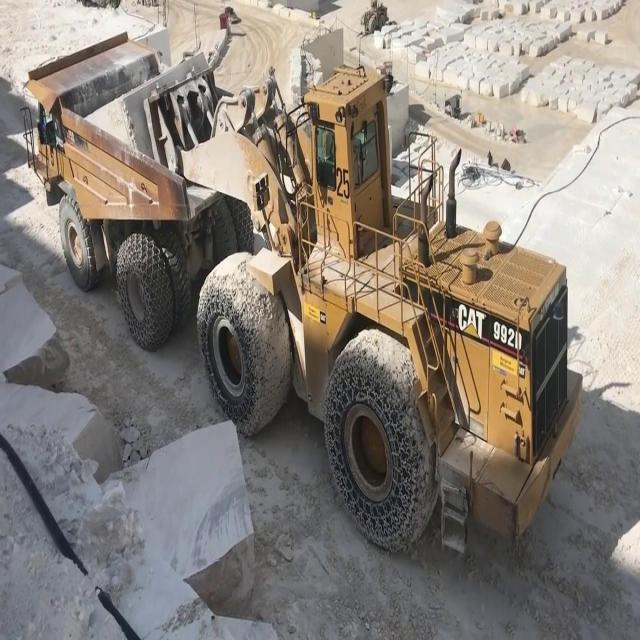Dump Truck: (21, 25, 257, 362)
Loader: (193, 54, 583, 574)
